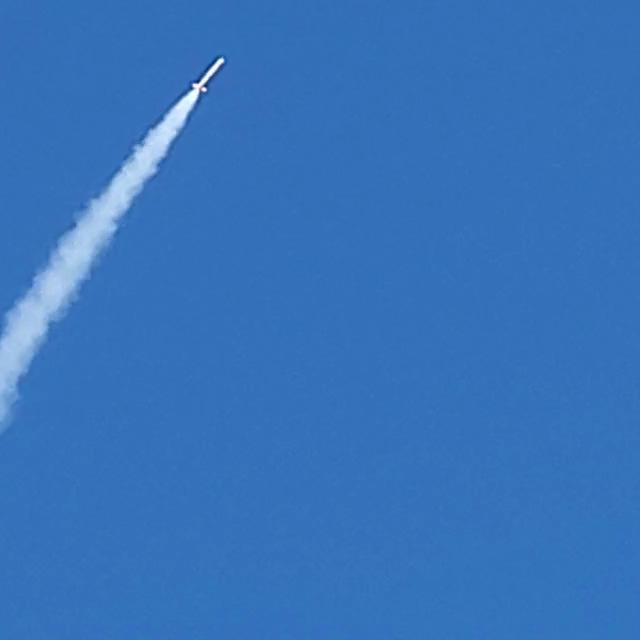rocket: (176, 54, 225, 106)
